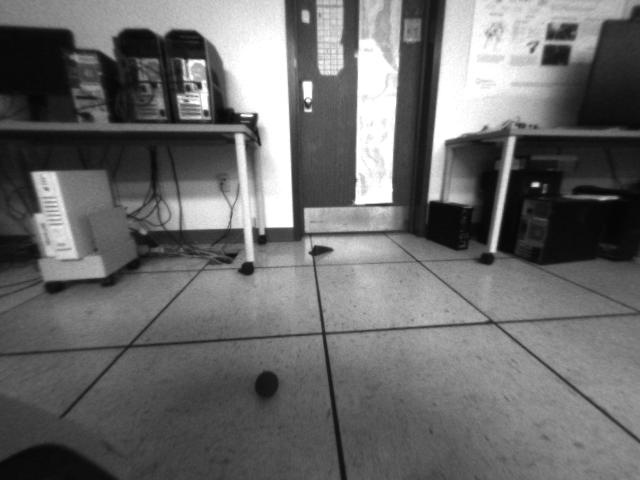dogtoy: (246, 365, 284, 406)
